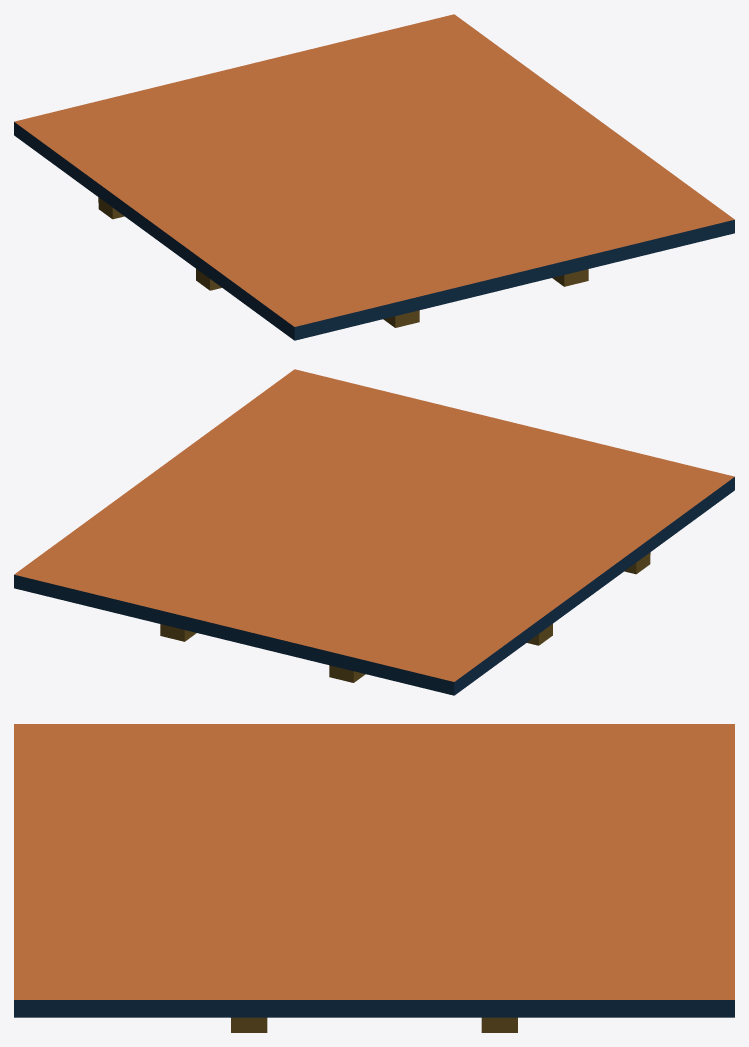
Rendered from WallFloor.fbx.
The picture shows the model from 3 angles, top to bottom: view 1: azimuth 30°, elevation 25°; view 2: azimuth 150°, elevation 25°; view 3: azimuth 270°, elevation 25°; orthographic projection. The views are drawn at different scales.
Visible parts, largest first — view 1: pCube121; view 2: pCube121; view 3: pCube121.
Boxes of the visible parts, bbox=[...] form: pCube121: bbox=[14, 14, 734, 340]; pCube121: bbox=[14, 369, 734, 695]; pCube121: bbox=[14, 724, 734, 1032].
Bounding box in the file's own units: 2.72 × 0.151 × 3.
